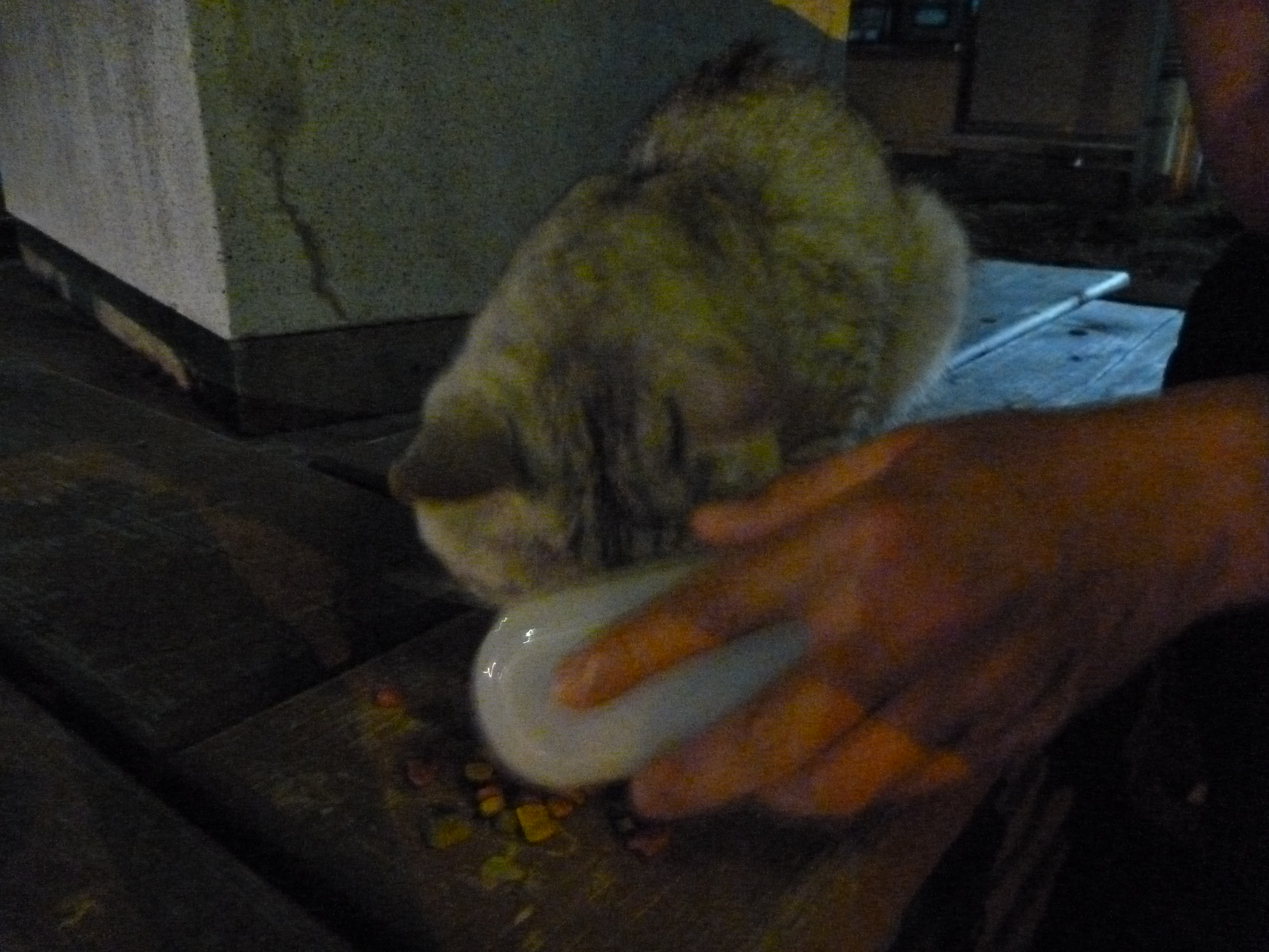cat: (386, 30, 978, 636)
